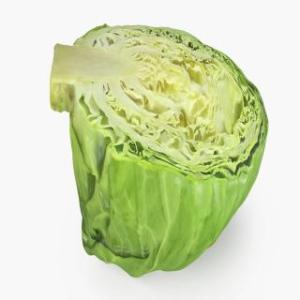cabbage: (49, 21, 269, 279)
